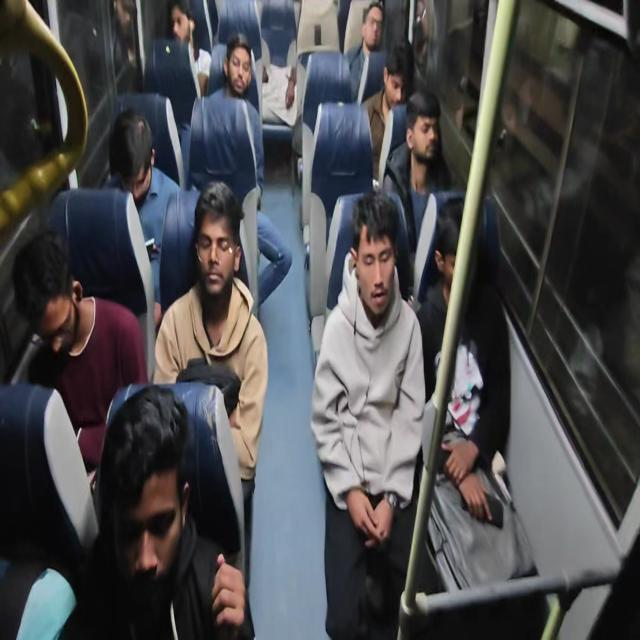person: (103, 389, 186, 596), (14, 225, 89, 368), (192, 171, 254, 315), (344, 192, 402, 328), (110, 94, 158, 214), (434, 194, 479, 310), (219, 30, 267, 101), (406, 92, 444, 180), (382, 48, 412, 114), (359, 0, 385, 56), (170, 1, 198, 52)
